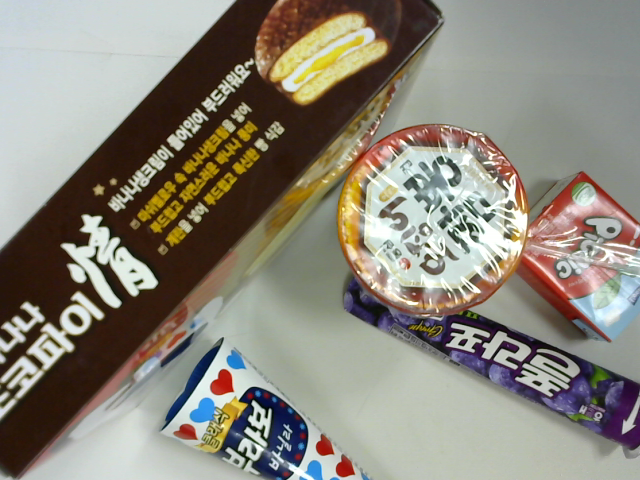Bravo_Cone_(Banila)_CVS: (161, 344, 391, 480)
Choco_Pie_Banana: (1, 8, 443, 480)
Ojjam: (333, 126, 525, 314)
Picnic_Apple: (511, 172, 640, 346)
Polapo_Grape: (343, 272, 640, 450)
